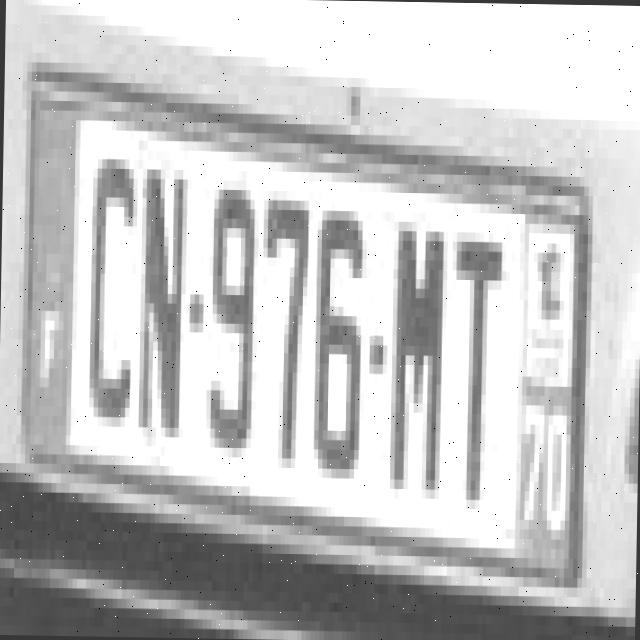EU: (17, 76, 583, 577)
France: (19, 95, 78, 458)
